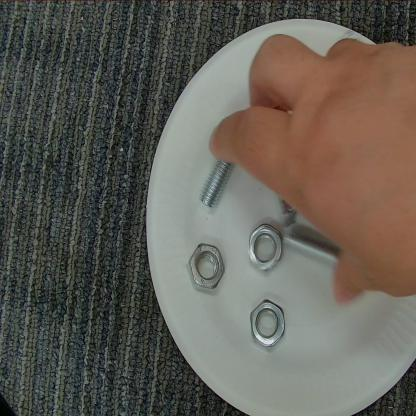FOD: (281, 225, 356, 277), (198, 137, 248, 212), (243, 214, 284, 282), (182, 242, 230, 294), (244, 296, 289, 350)
